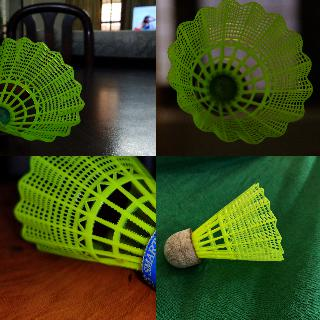shuttlecock: (14, 156, 155, 308), (167, 0, 313, 145), (164, 182, 284, 268), (0, 37, 85, 143)
